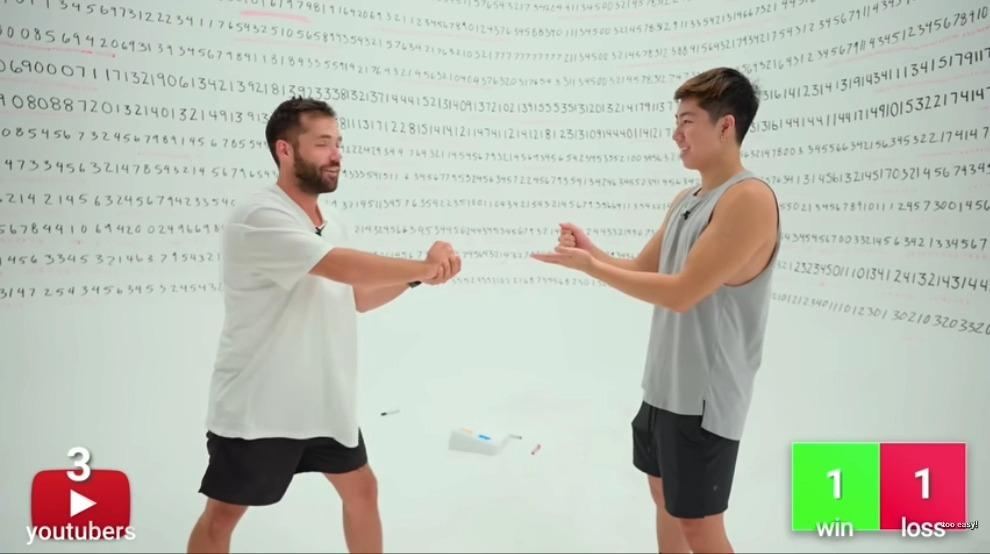Rock: (425, 242, 459, 280), (556, 218, 588, 248)
